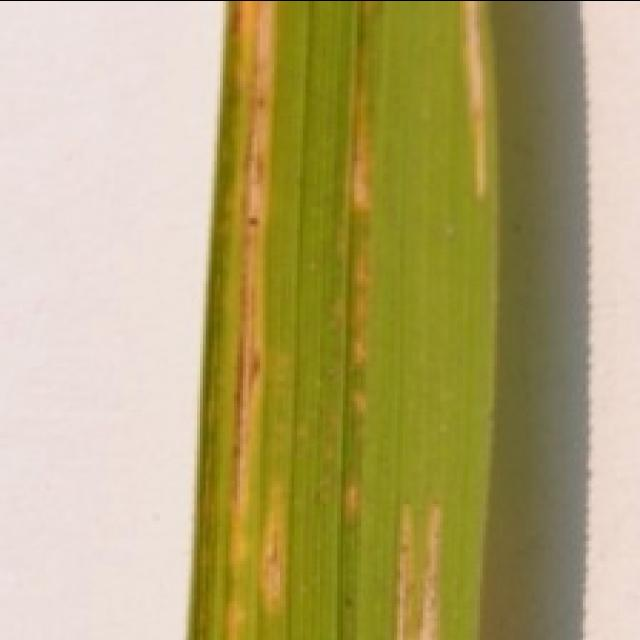Unhealthy: (230, 0, 278, 563), (464, 0, 486, 200), (416, 502, 443, 640), (259, 485, 285, 612), (397, 498, 415, 640), (353, 93, 372, 211), (228, 0, 260, 52), (223, 601, 248, 640), (357, 253, 375, 289), (352, 338, 369, 364)
